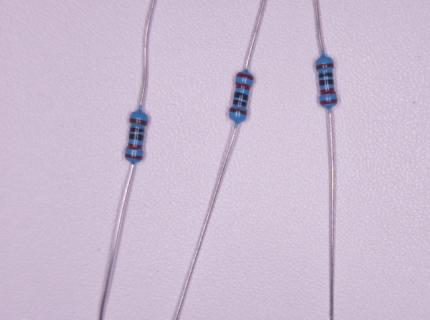Black band: (234, 92, 249, 101), (129, 133, 144, 141), (233, 100, 247, 107), (130, 127, 145, 133), (319, 79, 334, 85), (318, 72, 333, 78)
Brown band: (130, 118, 148, 126), (230, 107, 247, 115), (316, 63, 334, 70)
Red band: (124, 153, 143, 161), (235, 82, 251, 91), (126, 143, 143, 151), (237, 72, 254, 80), (319, 99, 338, 105), (320, 89, 336, 96)
